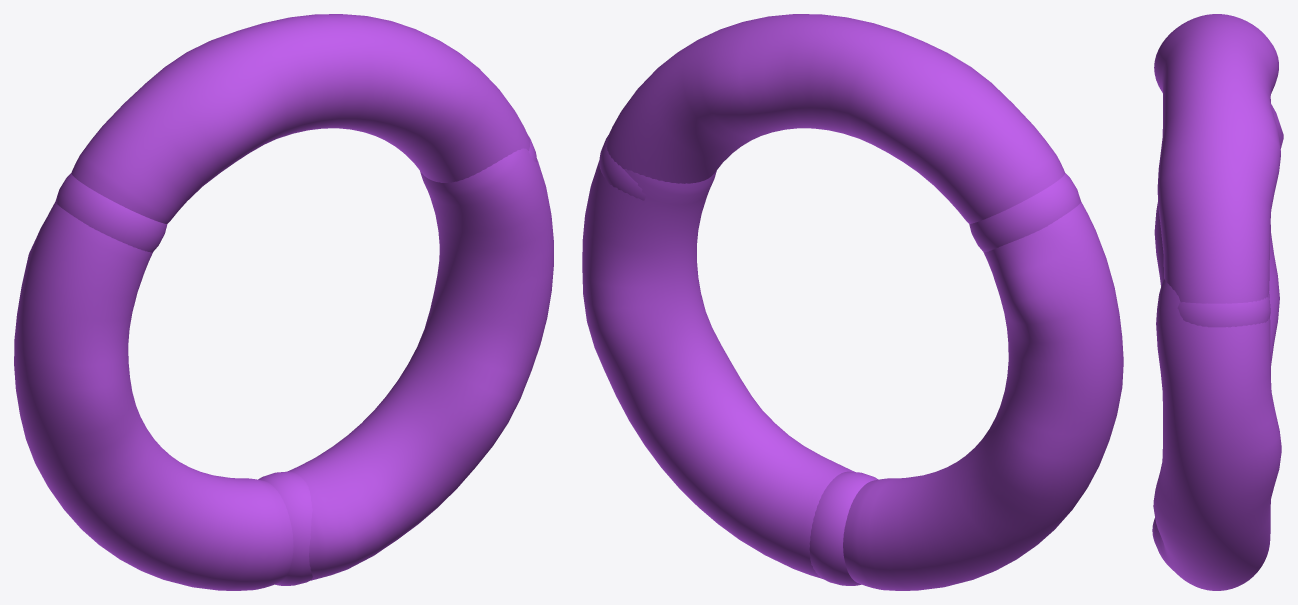
The model's file is Ring Test 6 (1).fbx.
3 views of the same model, side by side, from view 1: azimuth 30°, elevation 25°; view 2: azimuth 150°, elevation 25°; view 3: azimuth 270°, elevation 25° (orthographic). The views are drawn at different scales.
Visible parts, largest first — view 1: 3 Ring, 1 Ring, 2 Ring, 1 Sphere, 2 Sphere; view 2: 3 Ring, 1 Ring, 2 Ring, 2 Sphere, 1 Sphere, 3 Sphere; view 3: 3 Ring, 2 Ring, 3 Sphere, 1 Ring.
Boxes of the visible parts, box(x1,y1,x2,y2) form: 3 Ring: box(71, 14, 530, 223); 1 Ring: box(14, 202, 293, 590); 2 Ring: box(287, 148, 553, 580); 1 Sphere: box(55, 173, 167, 252); 2 Sphere: box(258, 471, 312, 585); 3 Ring: box(606, 14, 1064, 223); 1 Ring: box(843, 201, 1123, 590); 2 Ring: box(582, 161, 854, 578); 2 Sphere: box(809, 471, 878, 585); 1 Sphere: box(969, 173, 1080, 252); 3 Sphere: box(599, 135, 646, 200); 3 Ring: box(1154, 14, 1280, 303); 2 Ring: box(1152, 279, 1281, 590); 3 Sphere: box(1177, 297, 1270, 327); 1 Ring: box(1154, 104, 1283, 375).
Bounding box in the file's own units: 1057 × 1071 × 243.
